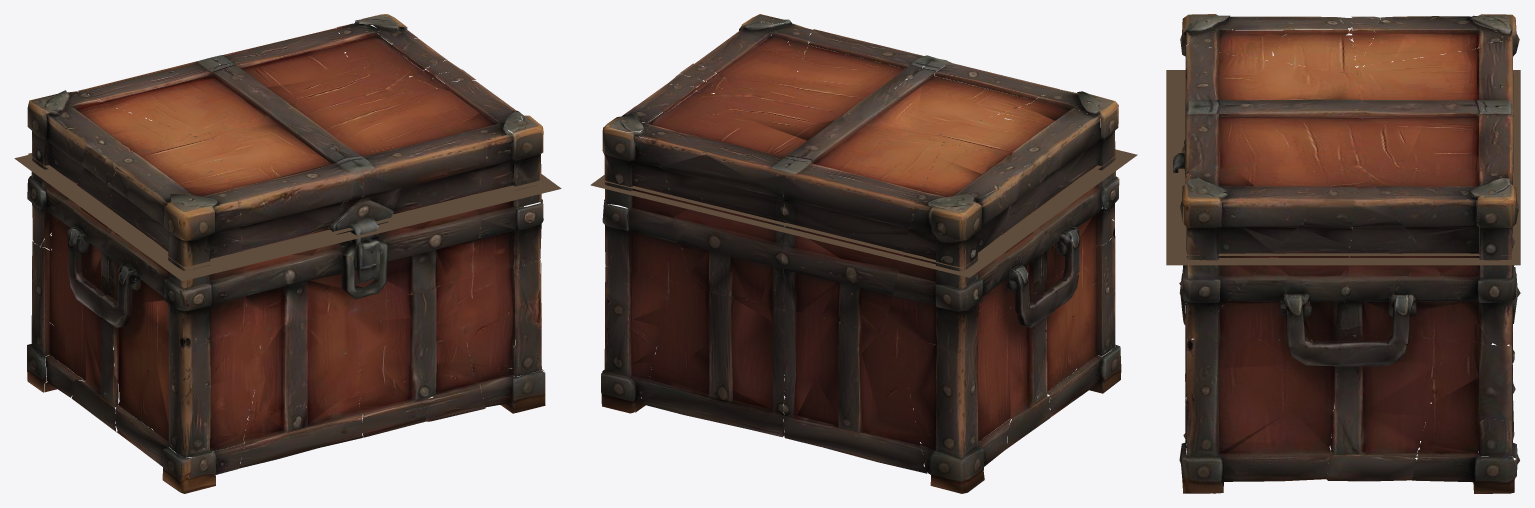
Rendered from bau.glb.
3 views of the same model, side by side, from view 1: azimuth 30°, elevation 25°; view 2: azimuth 150°, elevation 25°; view 3: azimuth 270°, elevation 25° (orthographic). The views are drawn at different scales.
Parts seen in each view (by area): view 1: Bau_base, Bau_tampa; view 2: Bau_base, Bau_tampa; view 3: Bau_tampa, Bau_base.
Part boxes in pixels (left/top/right/bottom): Bau_base: left=14, top=79, right=561, bottom=493; Bau_tampa: left=27, top=14, right=546, bottom=270; Bau_base: left=590, top=82, right=1137, bottom=493; Bau_tampa: left=602, top=14, right=1121, bottom=268; Bau_tampa: left=1173, top=14, right=1519, bottom=257; Bau_base: left=1166, top=70, right=1520, bottom=493.
Size of the model in its own units: 0.8719 by 0.62 by 0.6686.
Materials: 2 (1 with a texture image).
